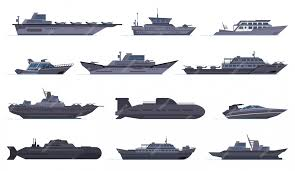Ship: (8, 95, 102, 120), (14, 14, 118, 36), (80, 54, 177, 75), (183, 57, 288, 75), (209, 140, 288, 160), (118, 142, 196, 160), (131, 16, 196, 35), (215, 19, 287, 35), (223, 104, 287, 119), (17, 61, 73, 75)
Submarine: (116, 97, 205, 120), (7, 139, 102, 160)
